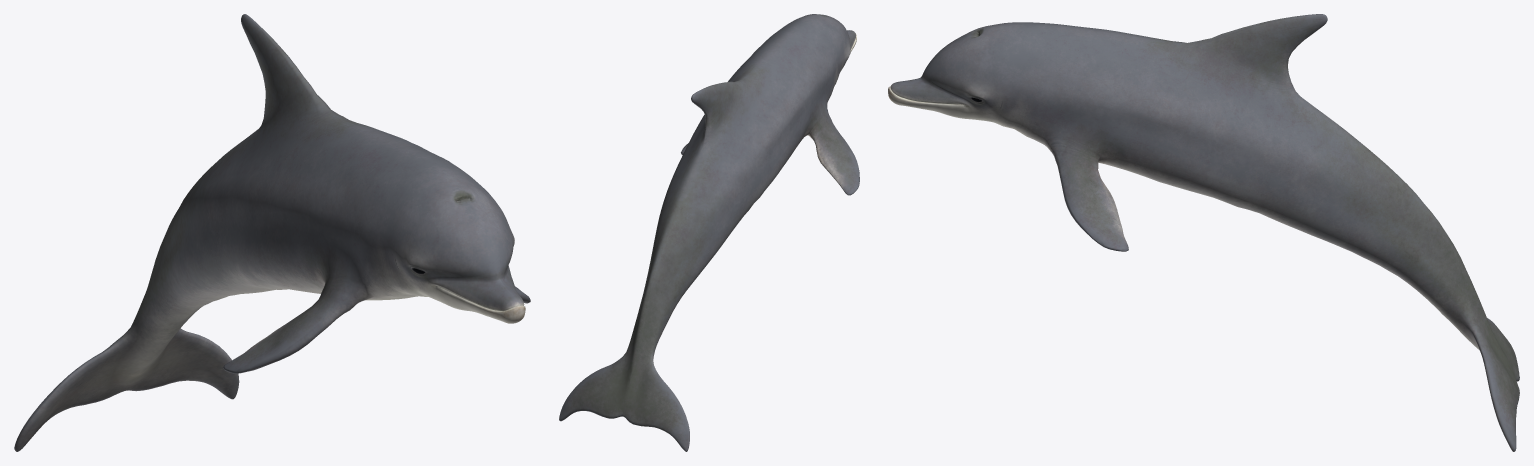
File: dolphin.glb
The picture shows the model from 3 angles, left to right: view 1: azimuth 30°, elevation 25°; view 2: azimuth 150°, elevation 25°; view 3: azimuth 270°, elevation 25°; orthographic projection. The views are drawn at different scales.
Parts seen in each view (by area): view 1: dolphin.1_1; view 2: dolphin.1_1; view 3: dolphin.1_1.
Part boxes in pixels (x1,y1,x2,y2): dolphin.1_1: (14, 14, 530, 451); dolphin.1_1: (559, 14, 859, 451); dolphin.1_1: (888, 14, 1519, 451).
Size of the model in its own units: 0.0345 by 0.0555 by 0.0803.
1 material, 1 textured.
